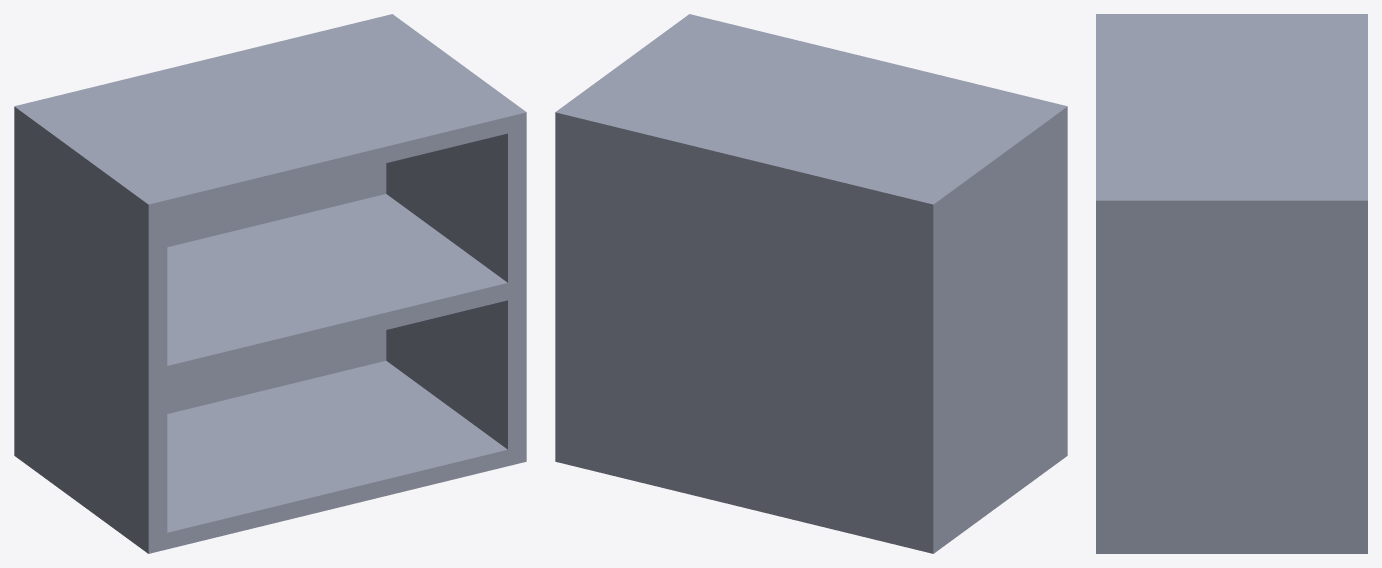
File: wall-shelf-short.fbx
3 renders of one model, left to right at view 1: azimuth 30°, elevation 25°; view 2: azimuth 150°, elevation 25°; view 3: azimuth 270°, elevation 25°, orthographic.
Visible parts, largest first — view 1: above_counter_cabinet; view 2: above_counter_cabinet; view 3: above_counter_cabinet.
Boxes of the visible parts, box(x1,y1,x2,y2) form: above_counter_cabinet: box(14, 14, 526, 553); above_counter_cabinet: box(555, 14, 1067, 553); above_counter_cabinet: box(1096, 14, 1367, 553).
Size of the model in its own units: 100 by 88.25 by 61.5.
